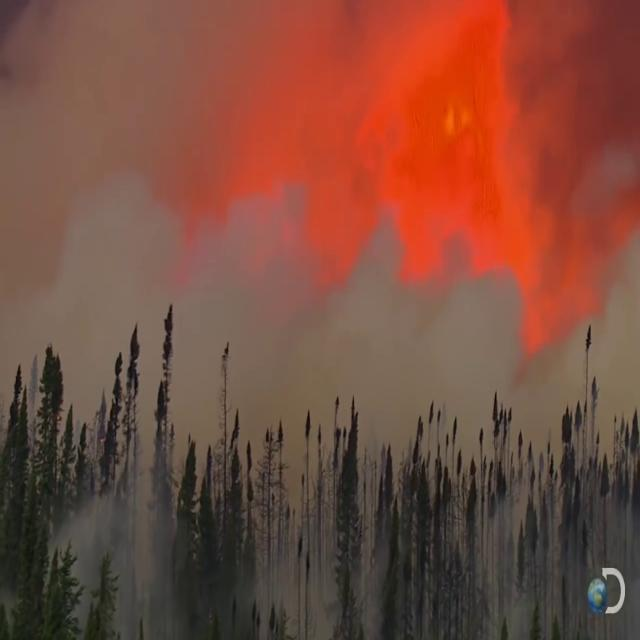Fire: (252, 115, 582, 224), (305, 57, 462, 186), (417, 94, 533, 228)
Smoke: (24, 336, 626, 640), (358, 280, 504, 472), (197, 278, 303, 451), (64, 220, 164, 371)
